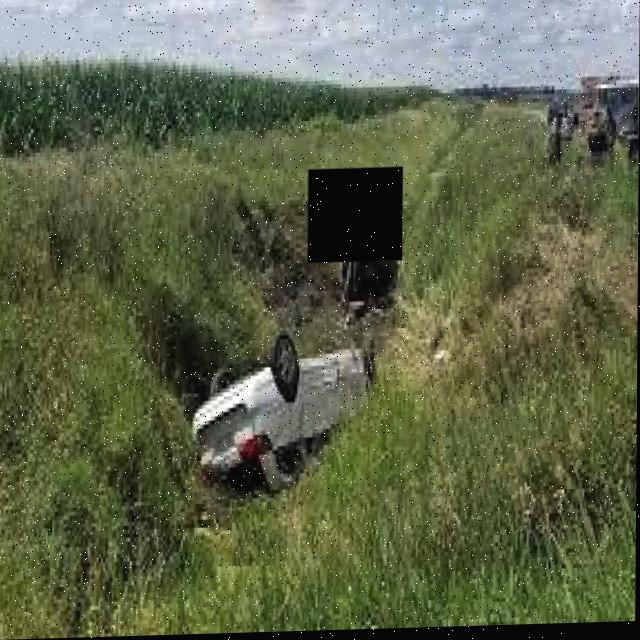single accident: (184, 331, 394, 487)
